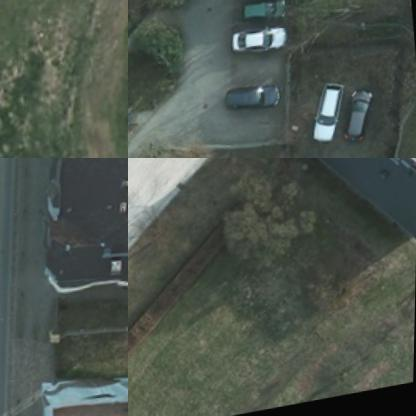car: (226, 84, 286, 122), (234, 30, 291, 66), (312, 92, 348, 146), (241, 0, 295, 36), (346, 98, 381, 150)
